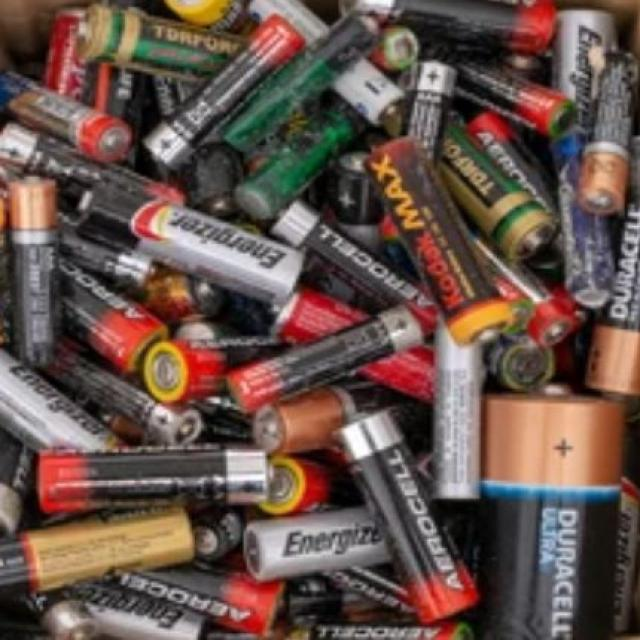electronic: (67, 166, 326, 319)
